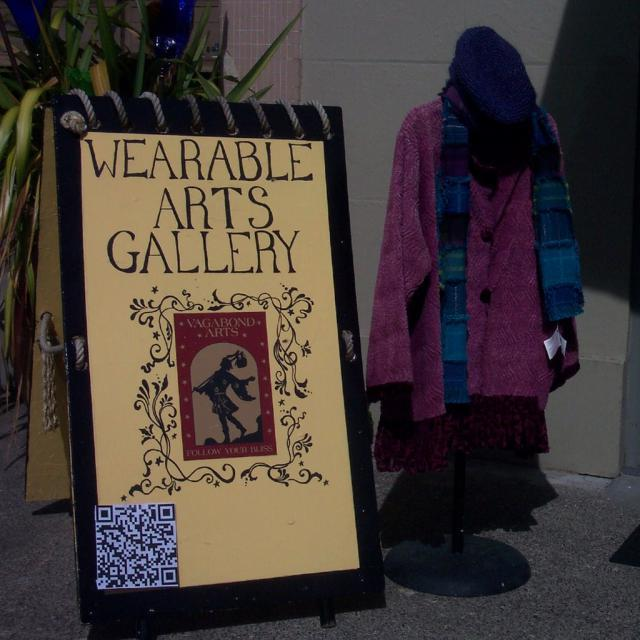qrcode: (98, 505, 179, 588)
